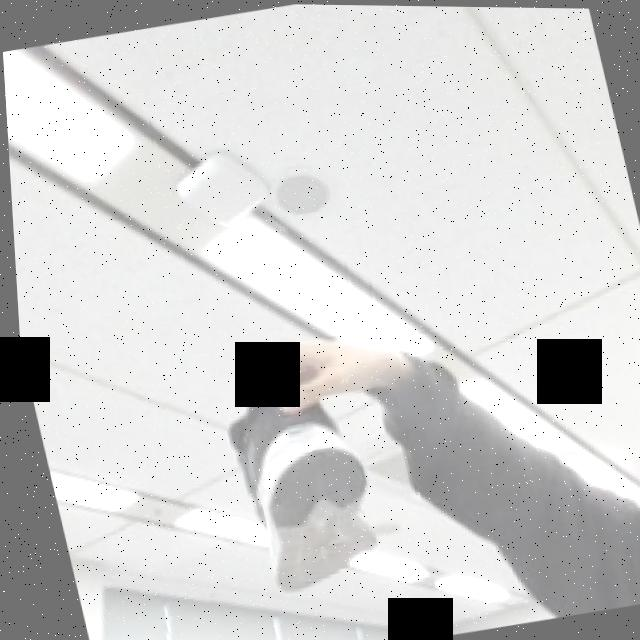shoe: (83, 322, 444, 623)
